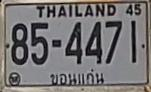1: (130, 19, 136, 62)
4: (64, 21, 82, 63), (85, 20, 101, 63)
5: (30, 22, 48, 64)
7: (105, 20, 122, 63)
8: (10, 22, 28, 64)
KKN: (49, 68, 107, 86)
